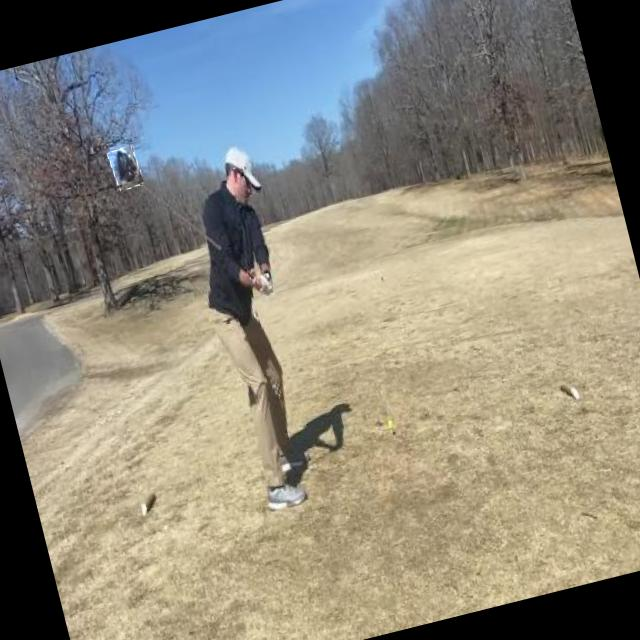club head: (107, 145, 143, 191)
